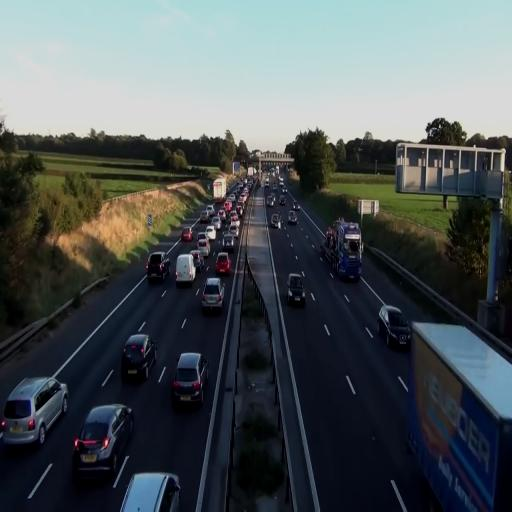vehicle: (404, 319, 512, 509), (72, 403, 134, 486), (0, 375, 68, 449), (120, 471, 181, 512), (170, 352, 206, 406), (122, 332, 156, 381), (336, 222, 363, 283), (377, 304, 412, 349), (200, 276, 224, 313), (286, 273, 306, 307), (176, 254, 196, 286), (146, 252, 167, 282), (214, 251, 230, 277), (288, 209, 298, 225), (272, 213, 282, 229)
